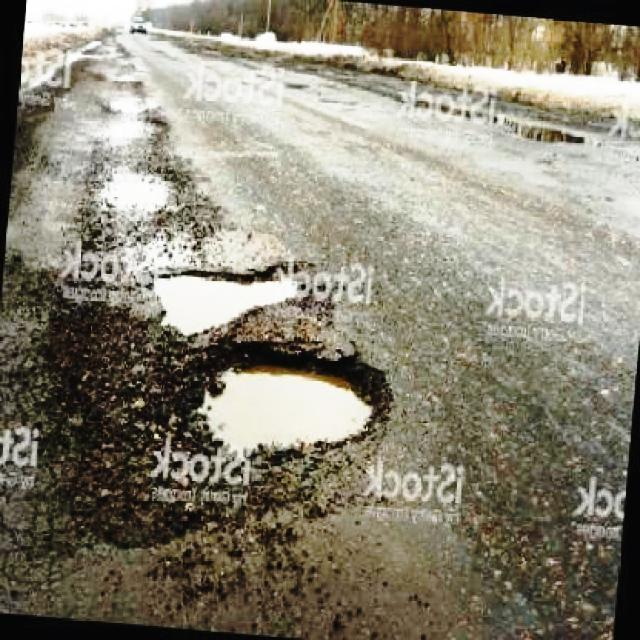pothole: (169, 332, 403, 477), (138, 257, 336, 340), (88, 158, 208, 251), (105, 114, 177, 146), (102, 92, 164, 119)
